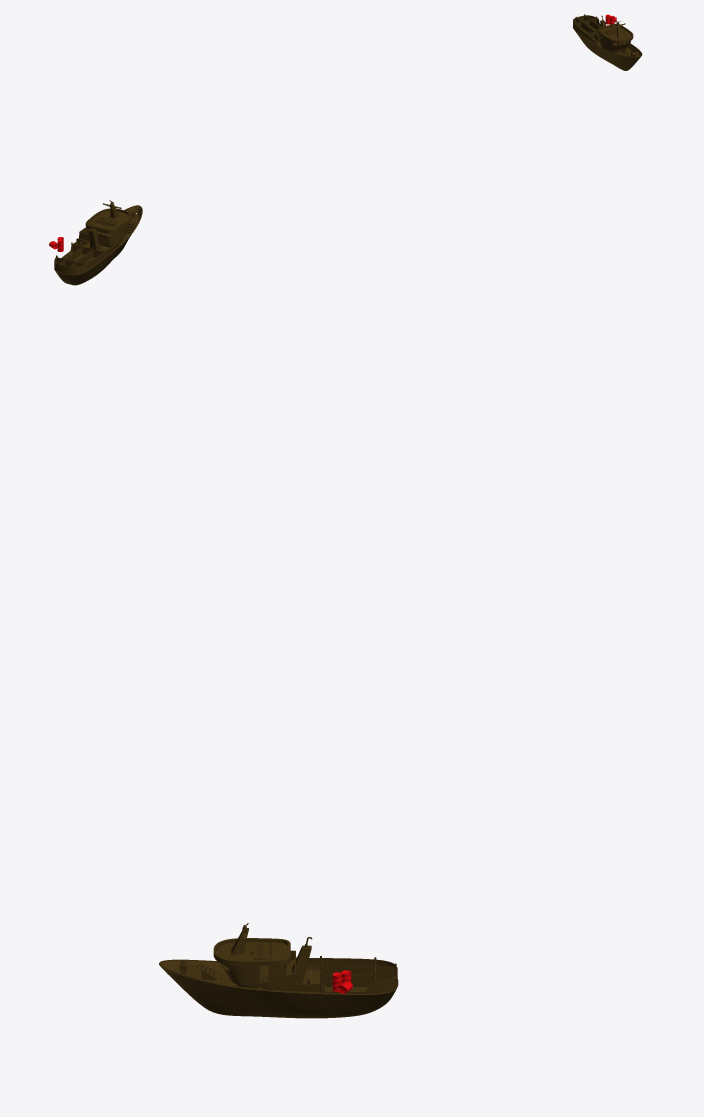
File: barquito.fbx
The picture shows the model from 3 angles, top to bottom: view 1: azimuth 30°, elevation 25°; view 2: azimuth 150°, elevation 25°; view 3: azimuth 270°, elevation 25°; orthographic projection. The views are drawn at different scales.
Parts seen in each view (by area): view 1: Pesquero-de-cerco-TEPSA; view 2: Pesquero-de-cerco-TEPSA; view 3: Pesquero-de-cerco-TEPSA.
Part boxes in pixels (x1,y1,x2,y2): Pesquero-de-cerco-TEPSA: [573, 14, 642, 70]; Pesquero-de-cerco-TEPSA: [54, 200, 142, 285]; Pesquero-de-cerco-TEPSA: [159, 923, 398, 1018].
Size of the model in its own units: 16382 by 2567 by 4539.
